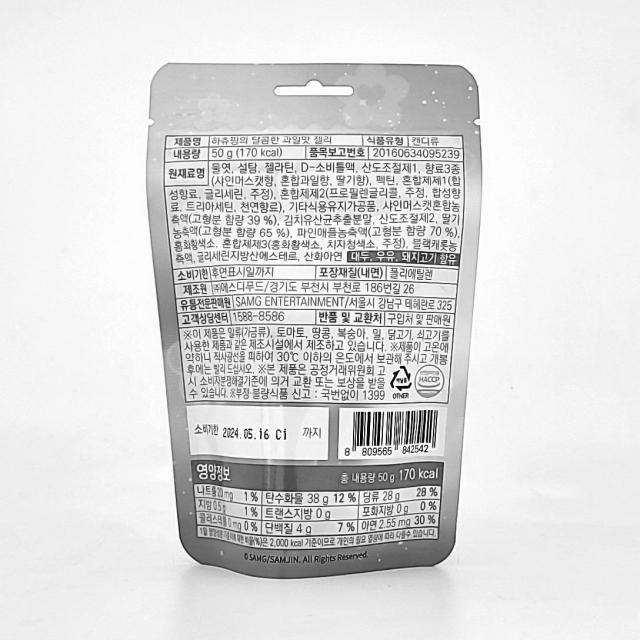Nutrition Label: (187, 455, 455, 563)
